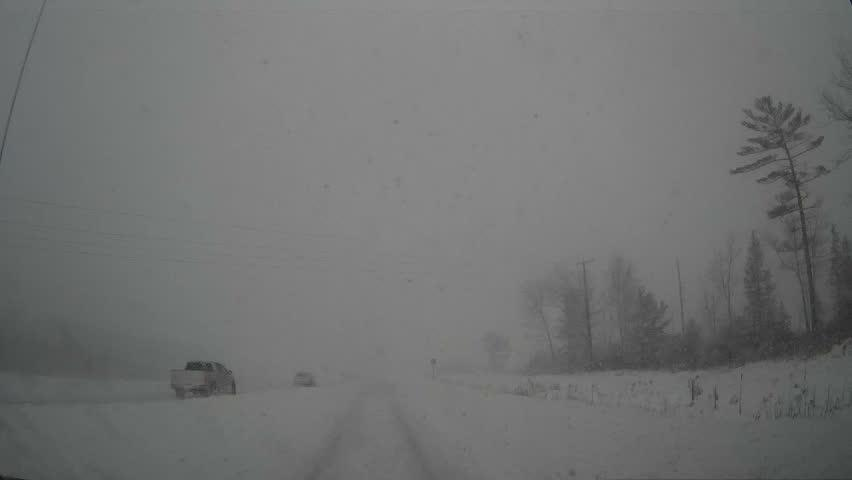car: (168, 358, 237, 399), (293, 371, 318, 387)
